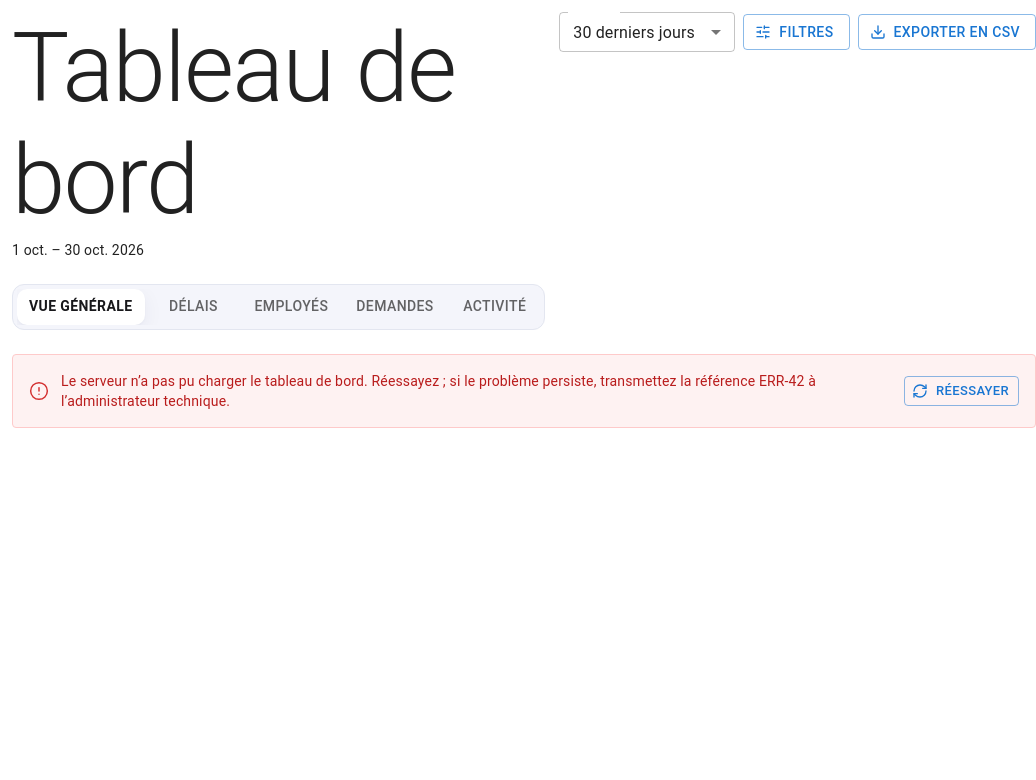
Test: Tableau de bord › affiche un état d’erreur avec la référence et permet de réessayer
Expected: the text "ERR-42" is shown, [61,373,816,409]
Click the button "Réessayer" at (962, 391), box [904,376,1019,406]
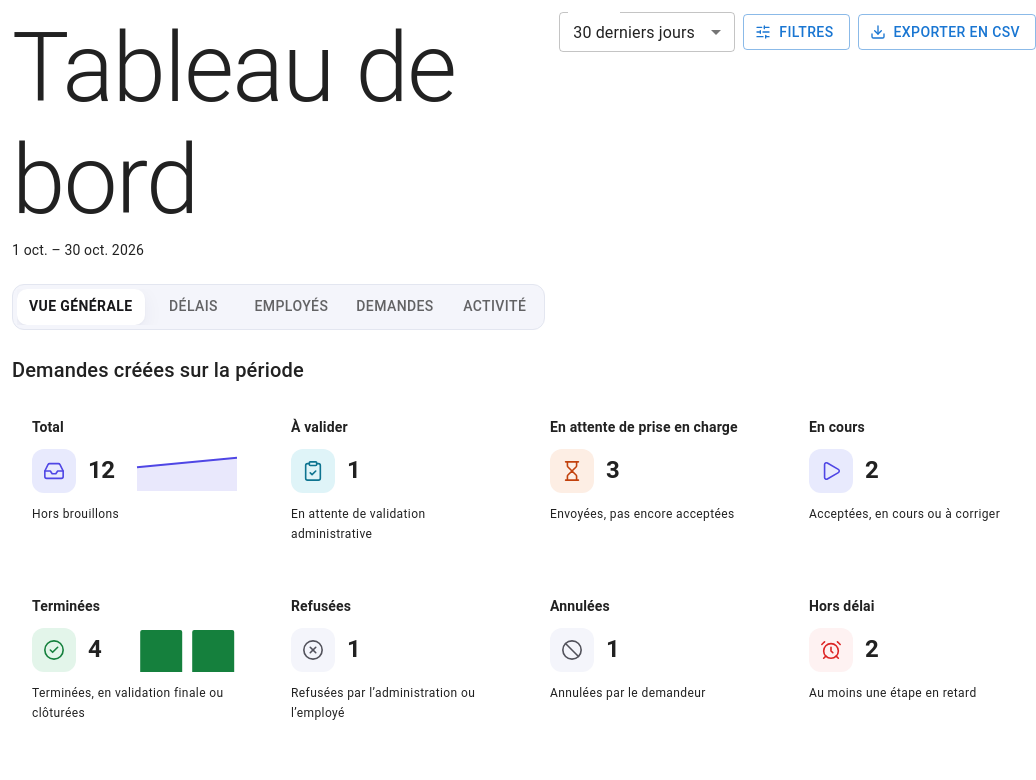
Expected: the heading "Demandes créées sur la période" is shown, [12,358,304,382]
